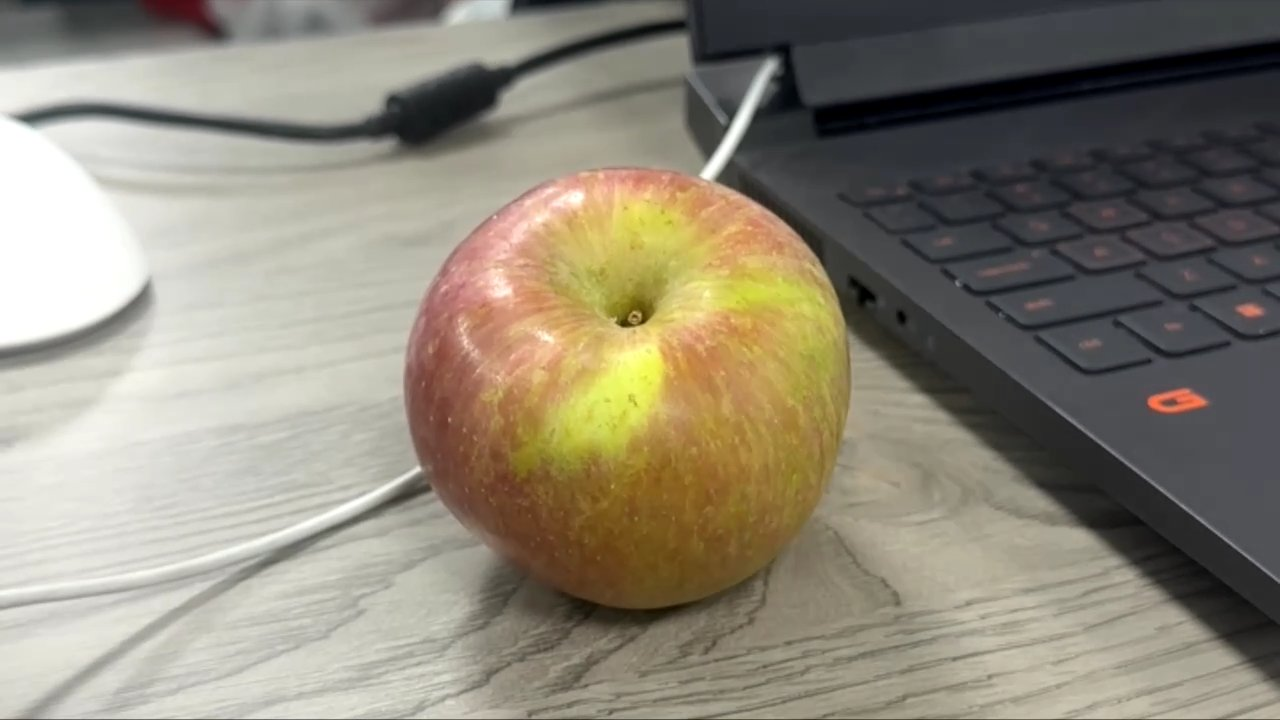apple_rotten: (397, 165, 870, 617)
